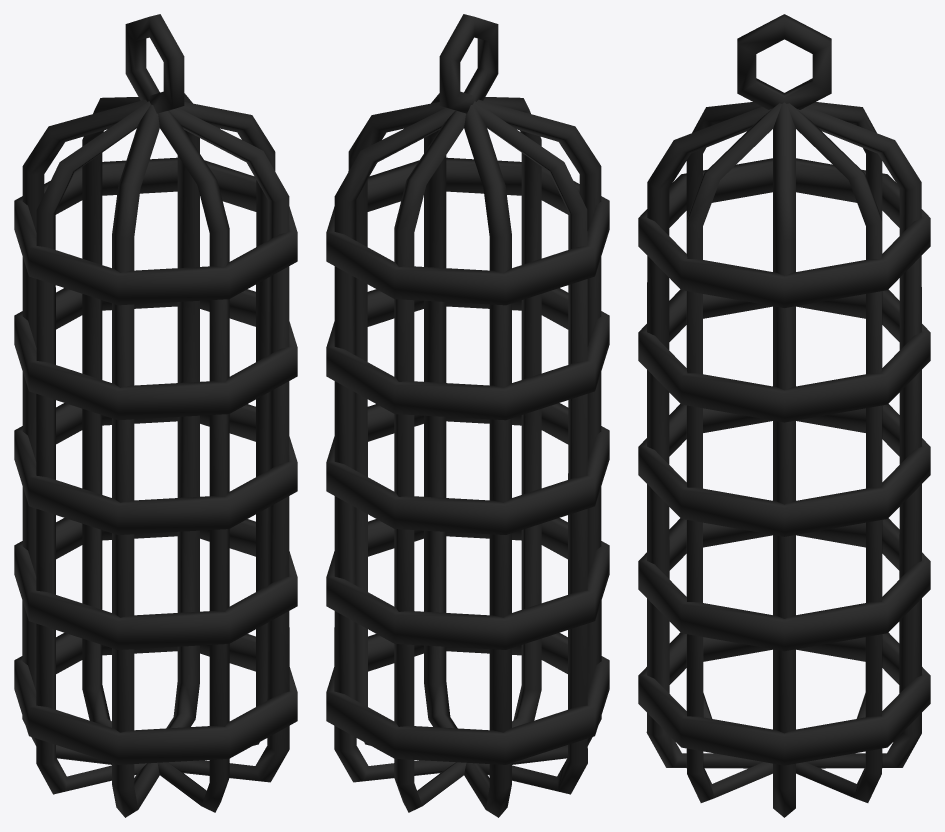
Rendered from TortureCage_Parts.fbx.
The picture shows the model from 3 angles, left to right: view 1: azimuth 30°, elevation 25°; view 2: azimuth 150°, elevation 25°; view 3: azimuth 270°, elevation 25°; orthographic projection.
Visible parts, largest first — view 1: torture-cage.parts, torture-cage.parts.007, torture-cage.parts.006, torture-cage.parts.001, torture-cage.parts.002, torture-cage.parts.003, torture-cage.parts.004, torture-cage.parts.005; view 2: torture-cage.parts, torture-cage.parts.007, torture-cage.parts.006, torture-cage.parts.001, torture-cage.parts.002, torture-cage.parts.003, torture-cage.parts.004, torture-cage.parts.005; view 3: torture-cage.parts.007, torture-cage.parts, torture-cage.parts.001, torture-cage.parts.006, torture-cage.parts.005, torture-cage.parts.002, torture-cage.parts.003, torture-cage.parts.004.
Boxes of the visible parts, x1,y1,x2,y2 form: torture-cage.parts: [22, 414, 289, 817]; torture-cage.parts.007: [36, 14, 275, 496]; torture-cage.parts.006: [22, 93, 289, 502]; torture-cage.parts.001: [14, 157, 297, 305]; torture-cage.parts.002: [14, 288, 297, 420]; torture-cage.parts.003: [14, 403, 297, 534]; torture-cage.parts.004: [14, 518, 297, 649]; torture-cage.parts.005: [14, 633, 297, 764]; torture-cage.parts: [334, 414, 601, 817]; torture-cage.parts.007: [348, 14, 587, 496]; torture-cage.parts.006: [334, 93, 601, 502]; torture-cage.parts.001: [326, 157, 609, 305]; torture-cage.parts.002: [326, 288, 609, 420]; torture-cage.parts.003: [326, 403, 609, 534]; torture-cage.parts.004: [326, 518, 609, 649]; torture-cage.parts.005: [326, 633, 609, 764]; torture-cage.parts.007: [647, 14, 921, 504]; torture-cage.parts: [646, 460, 921, 817]; torture-cage.parts.001: [638, 158, 930, 307]; torture-cage.parts.006: [686, 102, 882, 488]; torture-cage.parts.005: [638, 632, 930, 765]; torture-cage.parts.002: [638, 289, 930, 422]; torture-cage.parts.003: [638, 404, 930, 536]; torture-cage.parts.004: [638, 518, 930, 651].
Bounding box in the file's own units: 92.58 × 263 × 92.58.
1 material, 1 textured.
